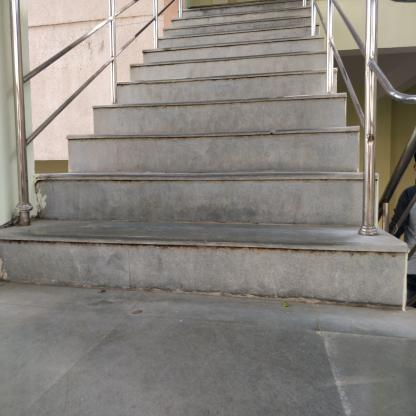stairs: (127, 60, 323, 318)
